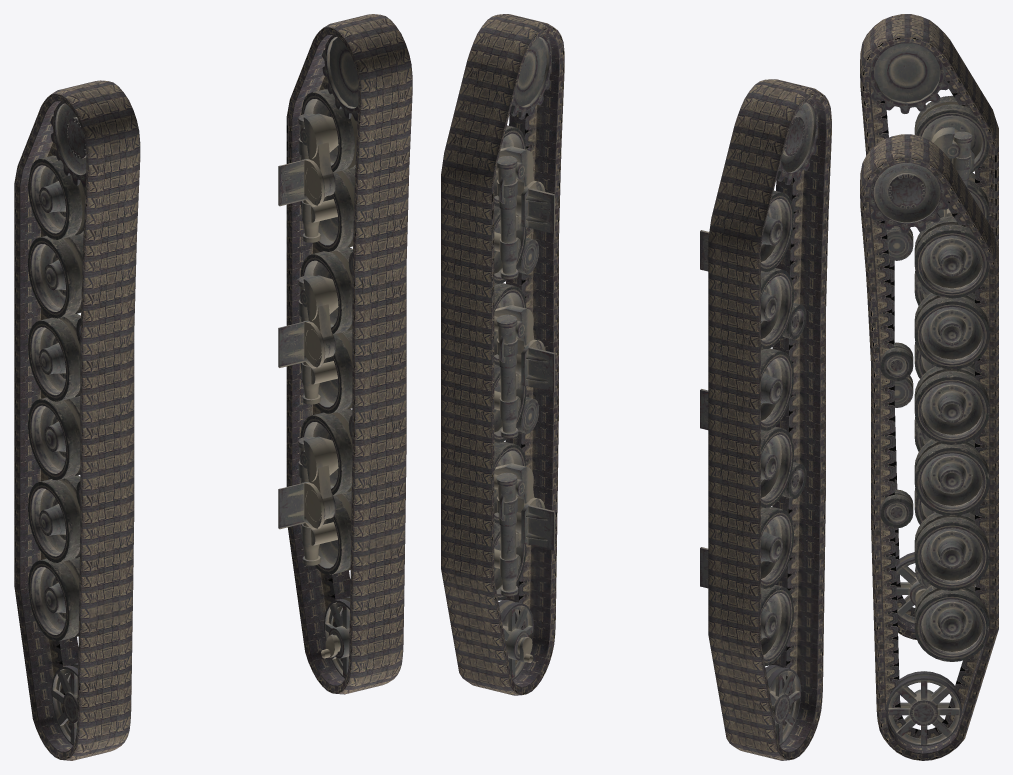
File: Chassis.glb
The picture shows the model from 3 angles, left to right: view 1: azimuth 30°, elevation 25°; view 2: azimuth 150°, elevation 25°; view 3: azimuth 270°, elevation 25°; orthographic projection. The views are drawn at different scales.
Visible parts, largest first — view 1: set_1_group_0, set_0_group_0, set_3_group_0, set_2_group_0; view 2: set_1_group_0, set_0_group_0, set_3_group_0, set_2_group_0; view 3: set_3_group_0, set_0_group_0, set_2_group_0, set_1_group_0.
Boxes of the visible parts, x1,y1,x2,y2 form: set_1_group_0: [14, 80, 140, 760]; set_0_group_0: [286, 14, 412, 694]; set_3_group_0: [278, 35, 358, 678]; set_2_group_0: [28, 101, 86, 745]; set_1_group_0: [708, 79, 831, 760]; set_0_group_0: [441, 14, 564, 695]; set_3_group_0: [494, 35, 554, 680]; set_2_group_0: [700, 100, 818, 745]; set_3_group_0: [869, 163, 989, 746]; set_0_group_0: [860, 134, 998, 760]; set_2_group_0: [869, 42, 989, 624]; set_1_group_0: [860, 14, 998, 639].
Bounding box in the file's own units: 3.15 × 6.24 × 1.29.
4 materials, 4 textured.
